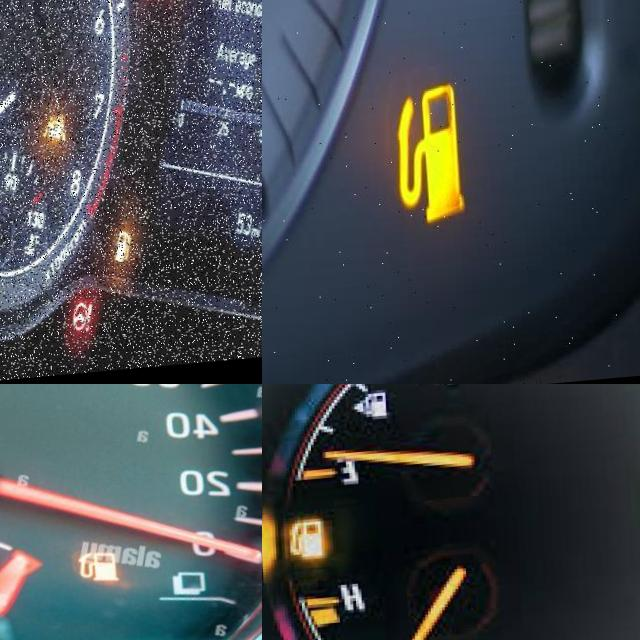Electronic Power Steering: (37, 286, 80, 340)
